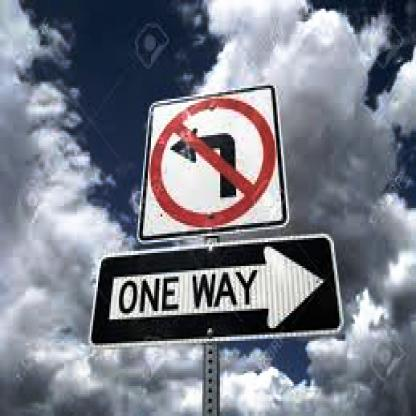No left turn: (146, 103, 288, 224)
